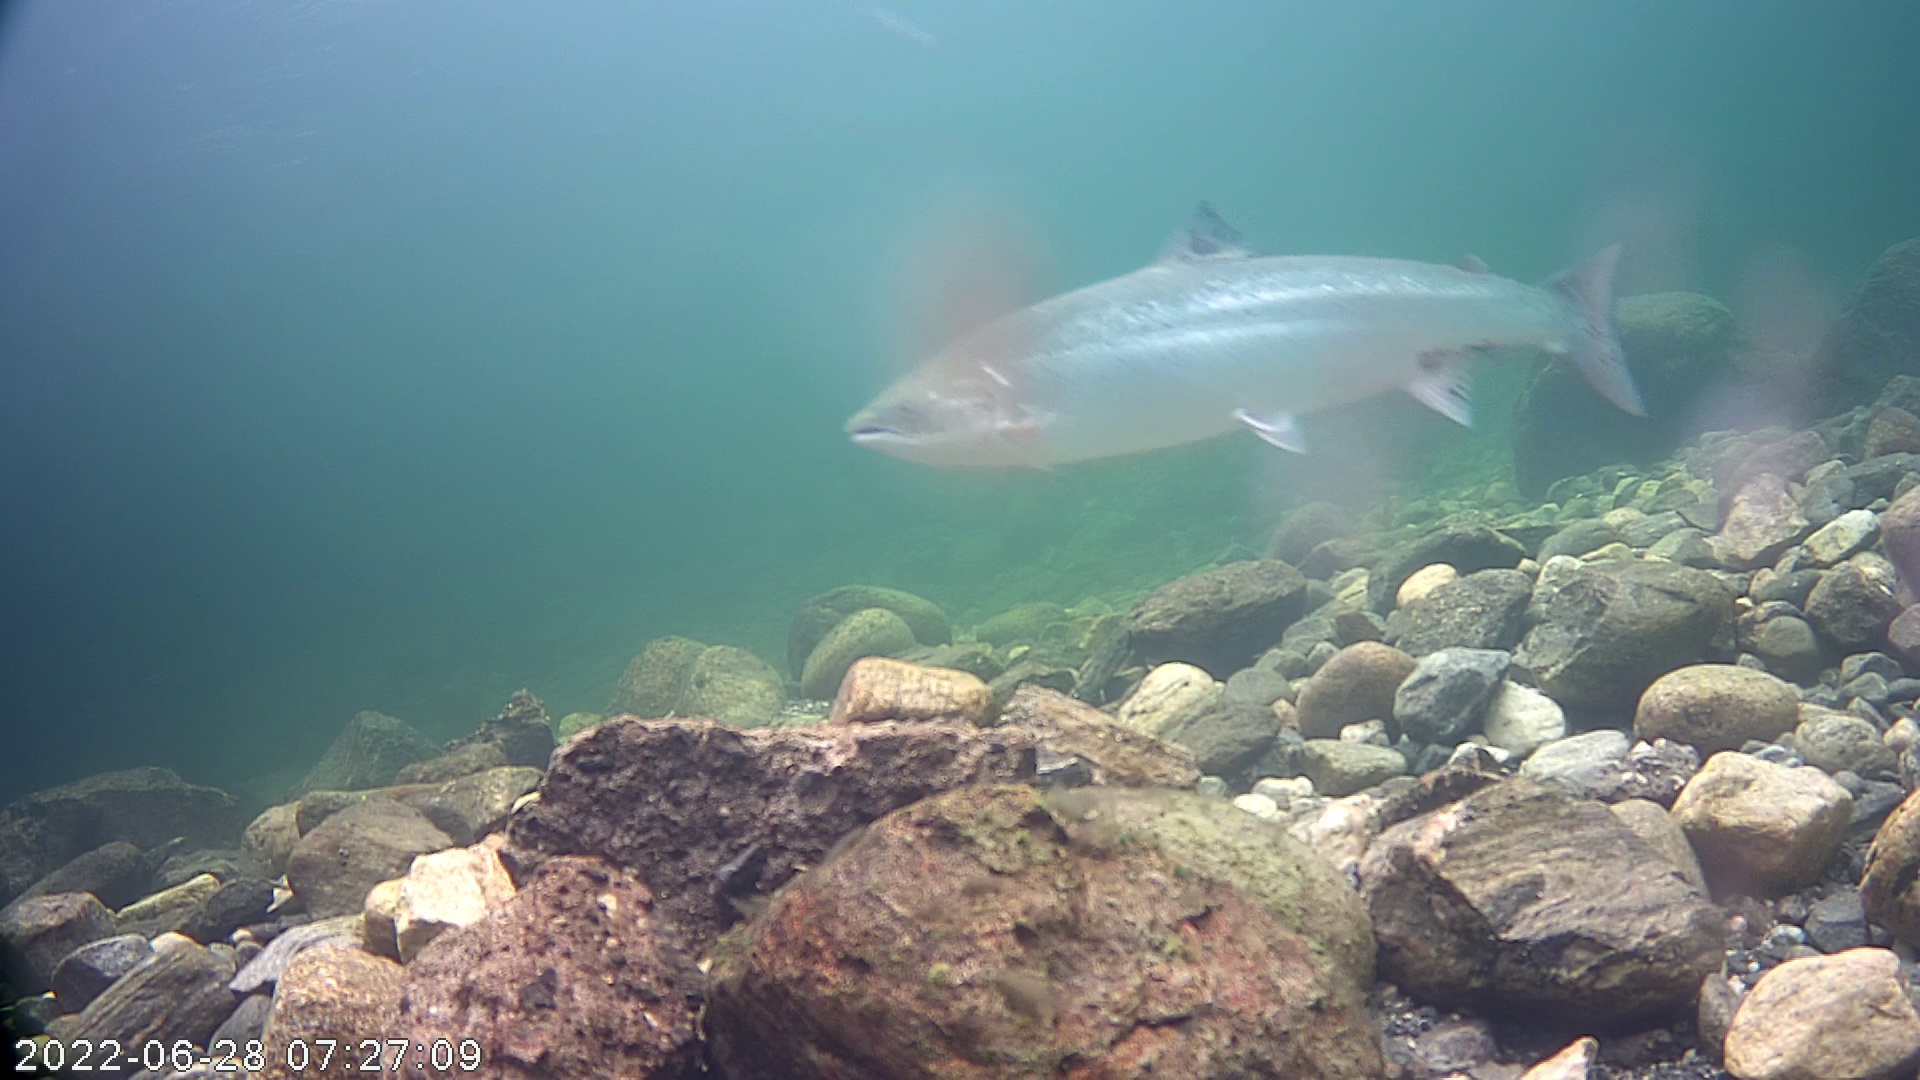salmon: (819, 113, 1675, 541)
